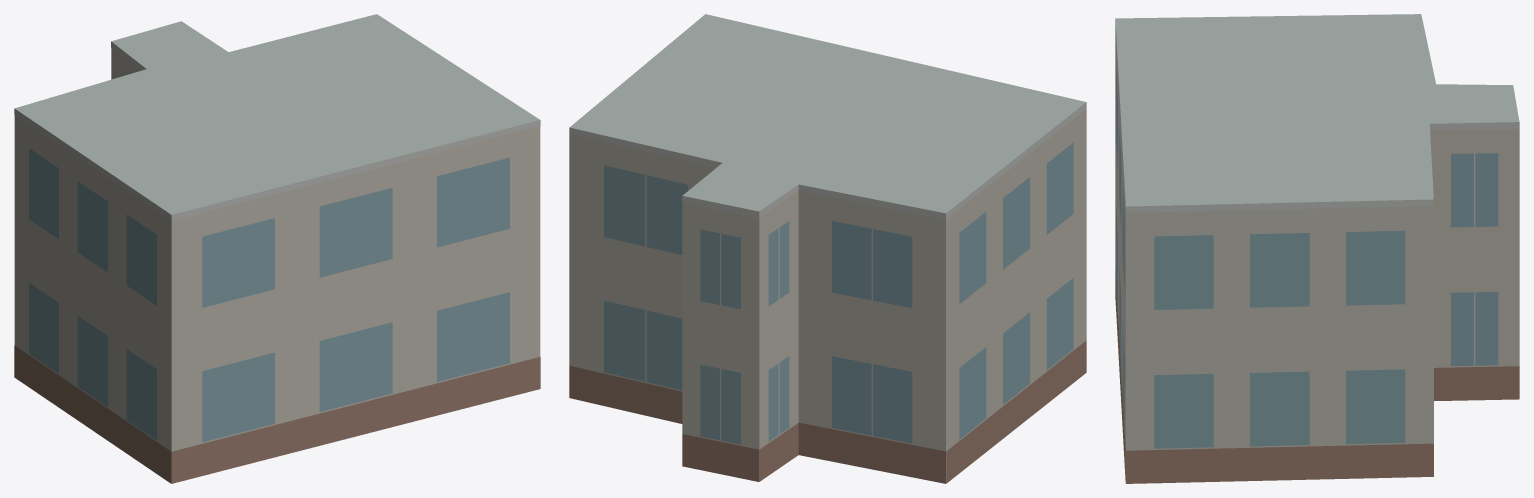
File: survey-upis-33035812.glb
3 views of the same model, side by side, from view 1: azimuth 30°, elevation 25°; view 2: azimuth 150°, elevation 25°; view 3: azimuth 270°, elevation 25° (orthographic). The views are drawn at different scales.
Parts seen in each view (by area): view 1: survey-upis-33035812.tmp; view 2: survey-upis-33035812.tmp; view 3: survey-upis-33035812.tmp.
Boxes of the visible parts, x1,y1,x2,y2 form: survey-upis-33035812.tmp: [14, 14, 540, 483]; survey-upis-33035812.tmp: [569, 14, 1086, 483]; survey-upis-33035812.tmp: [1115, 14, 1519, 483].
Size of the model in its own units: 15.64 by 10.5 by 13.88.
